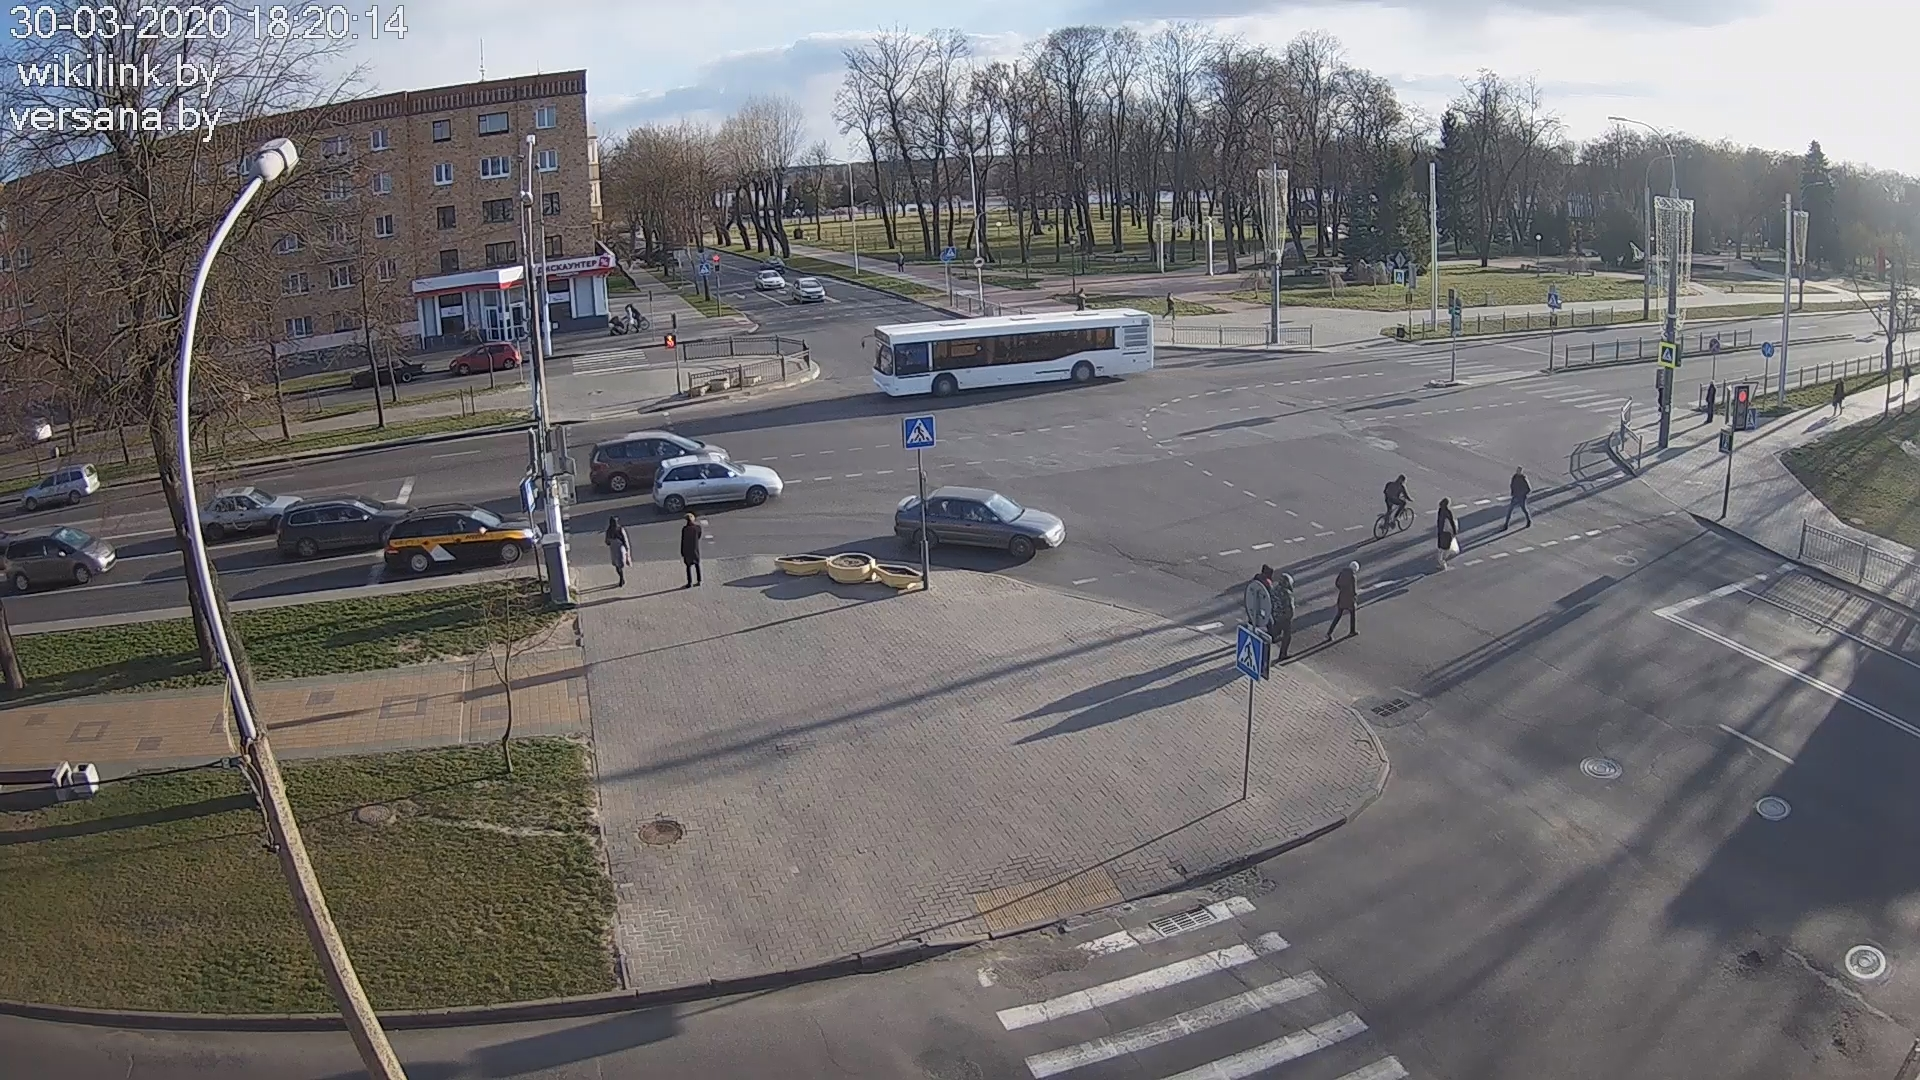bus: (873, 307, 1154, 397)
car: (894, 485, 1065, 562), (384, 502, 542, 574), (276, 492, 418, 559), (589, 429, 731, 493), (651, 454, 783, 516), (4, 524, 116, 593), (199, 487, 305, 541), (351, 355, 426, 389), (450, 342, 524, 375), (793, 276, 825, 303), (756, 270, 785, 290)
